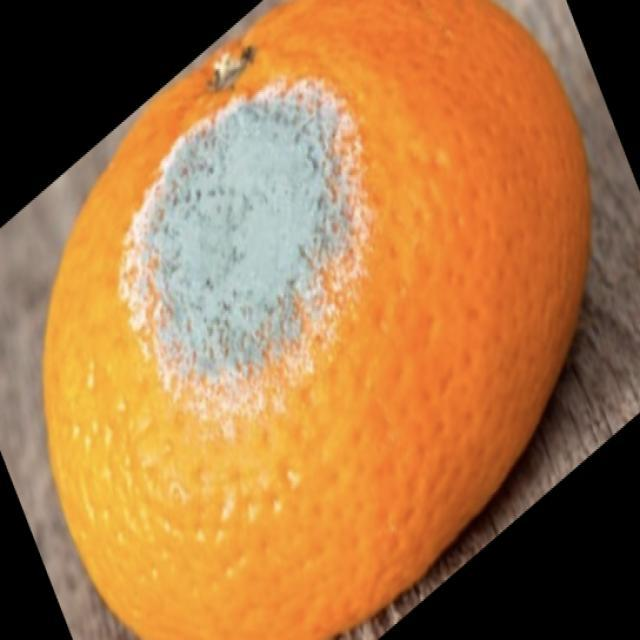sedikit-busuk: (44, 0, 589, 639), (132, 85, 352, 382)
